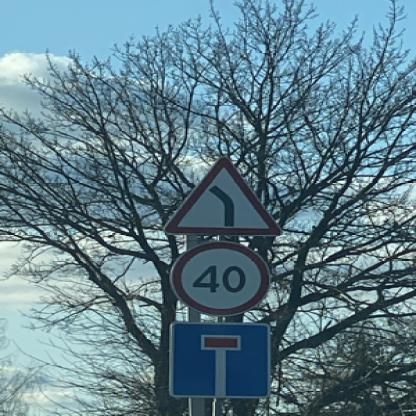speedlimit: (167, 240, 268, 315)
